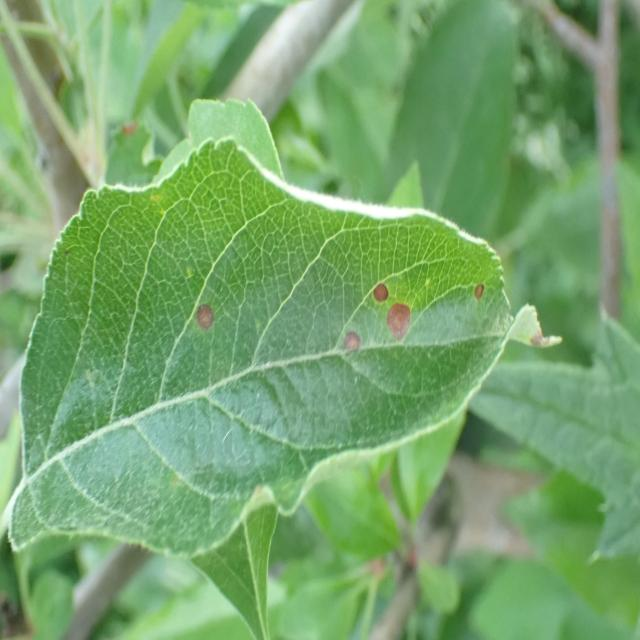frog-eye-leaf-spot: (3, 97, 564, 562)
